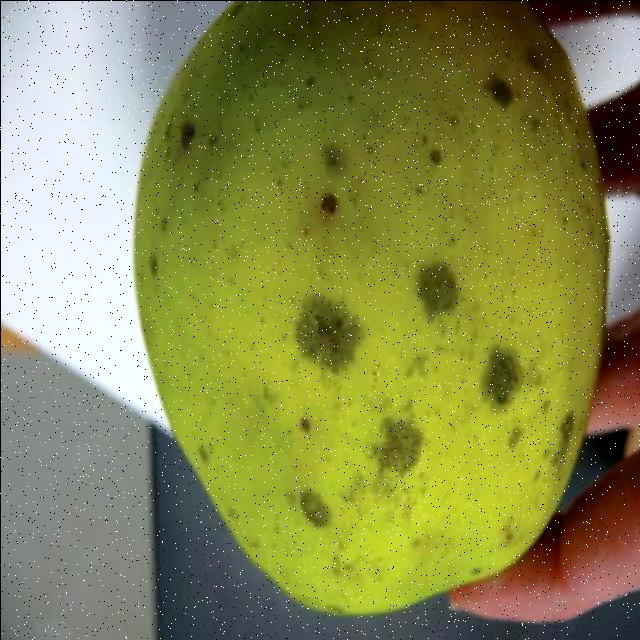BLOTCH: (110, 0, 624, 640)
